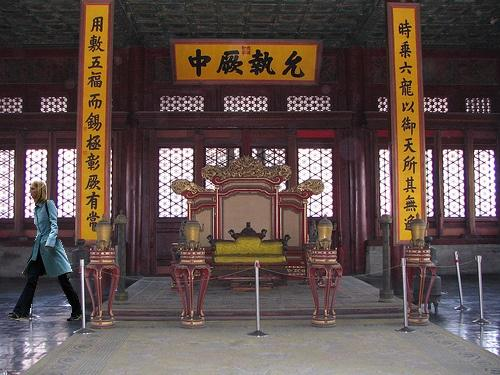tampered: (8, 182, 83, 321)
